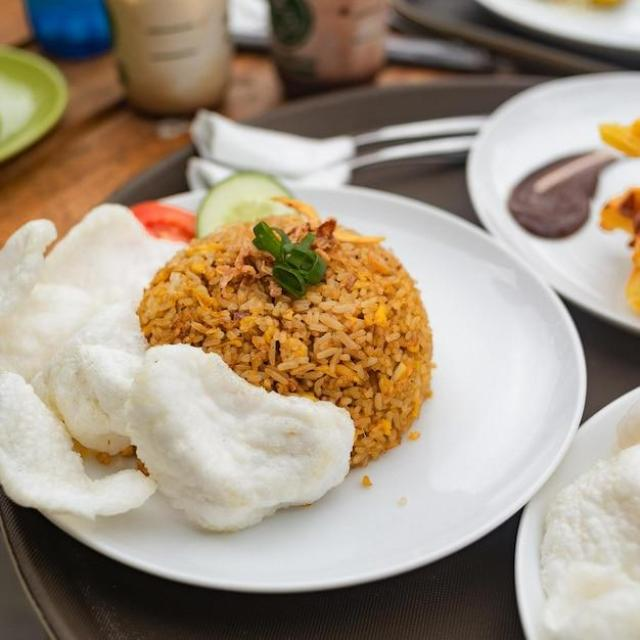Nasi Goreng: (140, 200, 436, 476)
